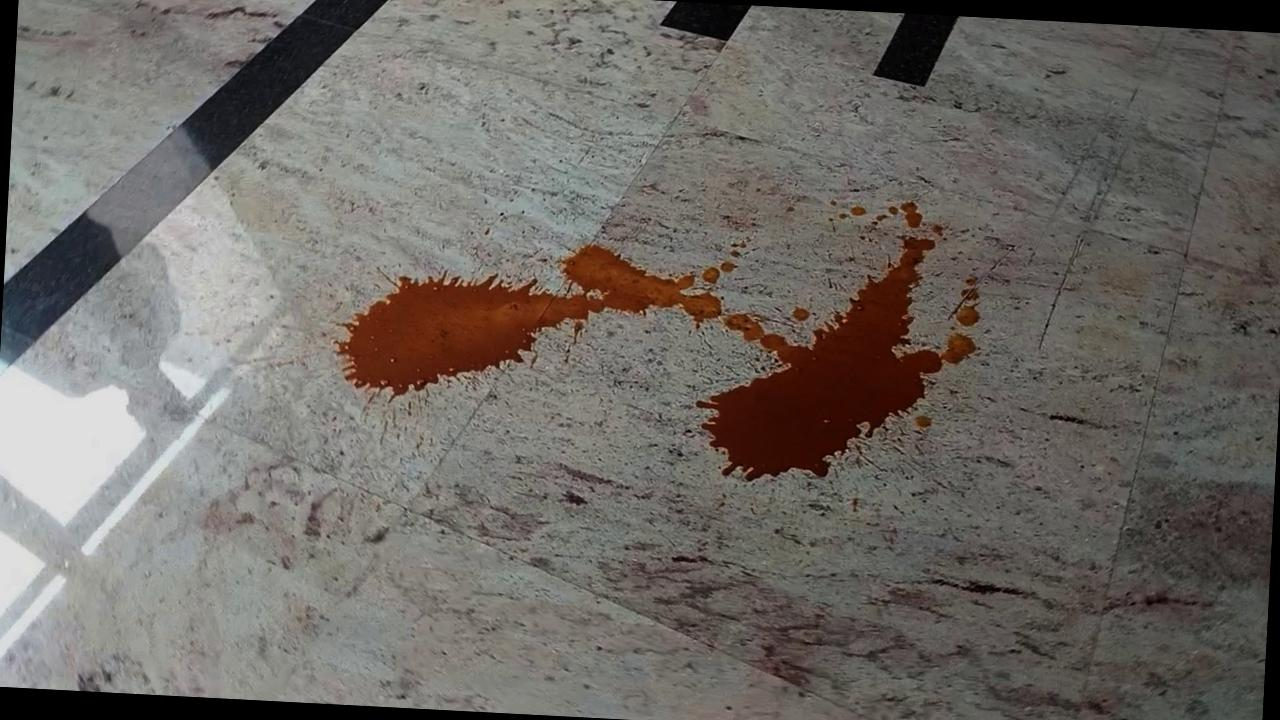dirty_floor: (329, 164, 982, 490)
